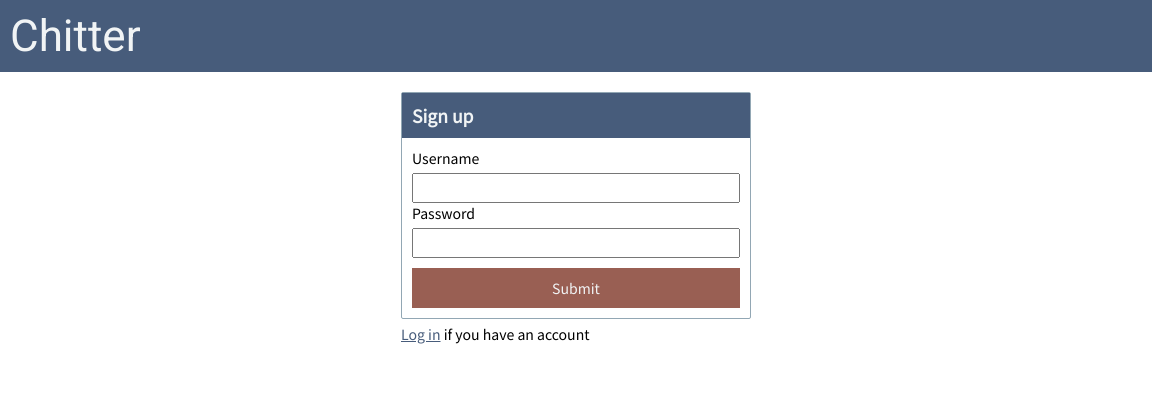
MainContainer › renders a the peeps list when you successfully log in
In the field labelled "Username": (576, 188) [412,173,740,203], type "steve"
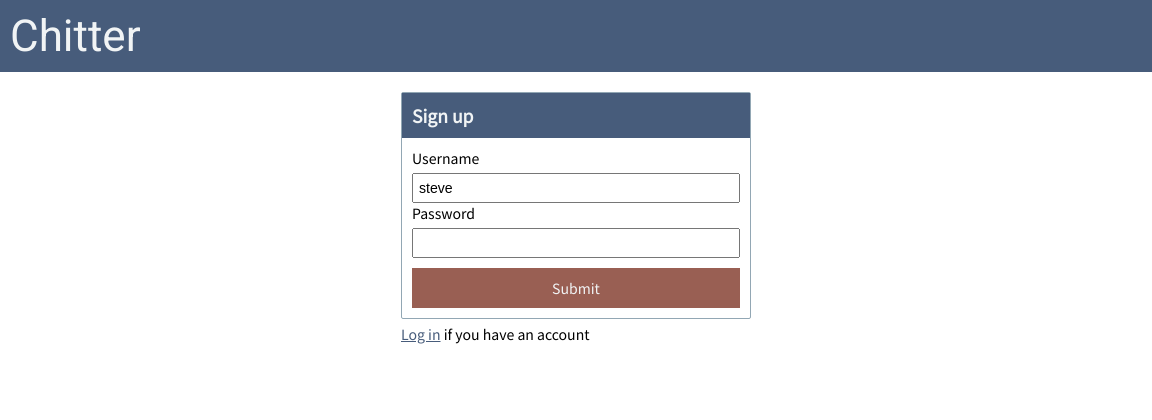
In the password field labelled "Password": (576, 243) [412,228,740,258], type "1Abcdefgh2"
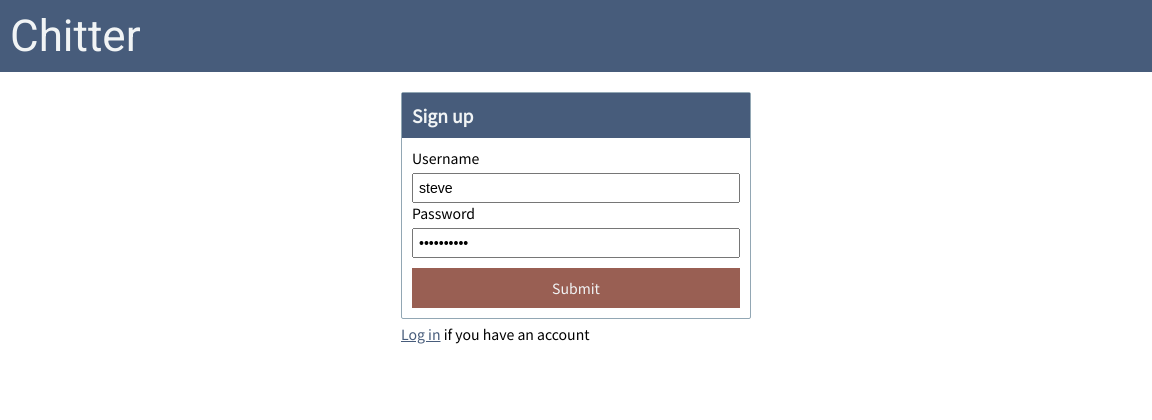
Click the button "Submit": (576, 288) [412,268,740,308]
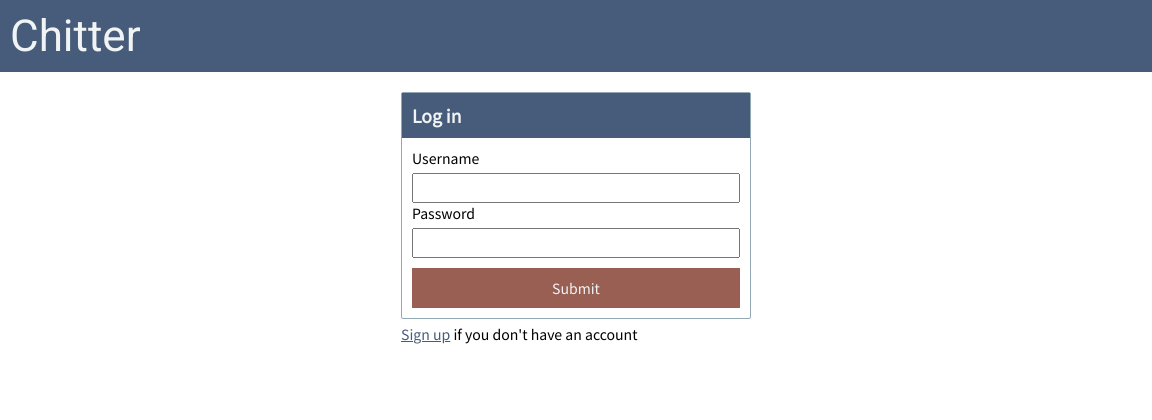
Expected: the heading "Log in" is shown, [402,93,750,138]
In the field labelled "Username": (576, 188) [412,173,740,203], type "steve"
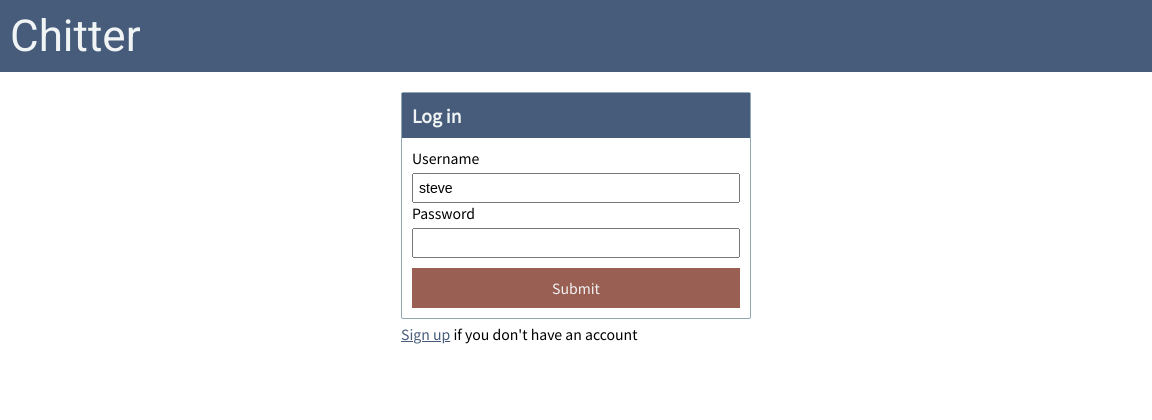
In the password field labelled "Password": (576, 243) [412,228,740,258], type "1Abcdefgh2"
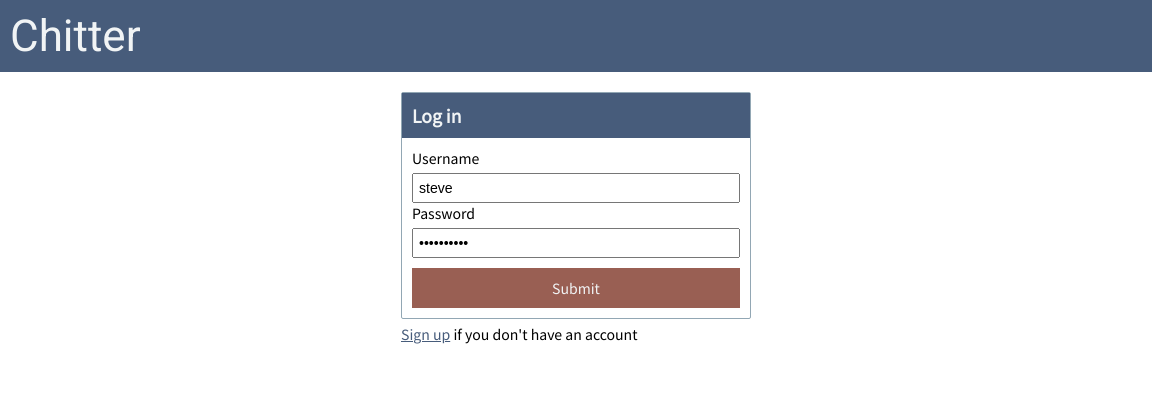
Click the button "Submit": (576, 288) [412,268,740,308]
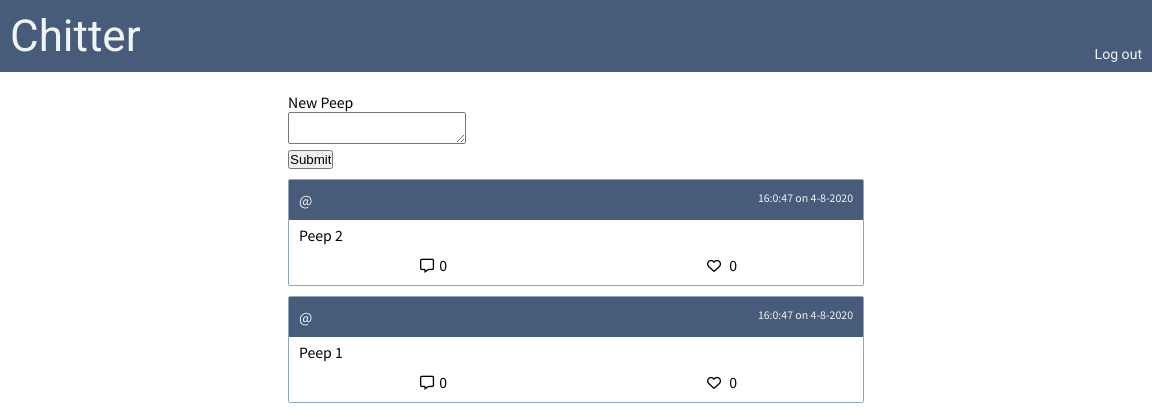
Expected: the text "Peep 2" is shown, [299,225,343,245]
